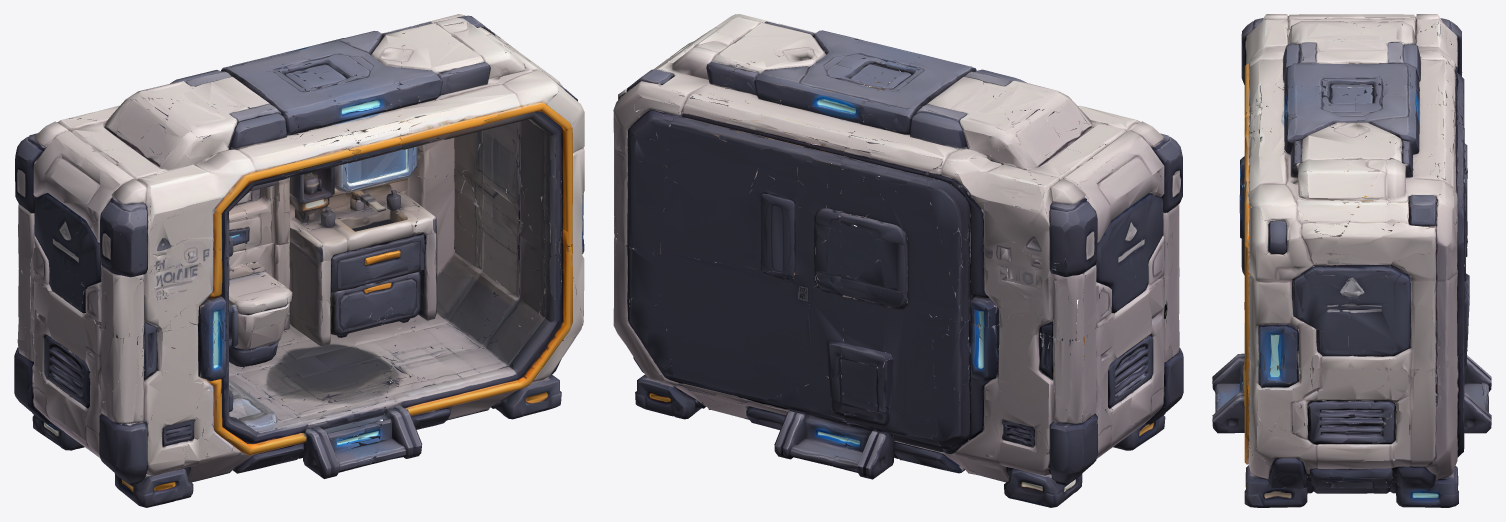
The model's file is Bathroom.glb.
3 renders of one model, left to right at view 1: azimuth 30°, elevation 25°; view 2: azimuth 150°, elevation 25°; view 3: azimuth 270°, elevation 25°, orthographic. The views are drawn at different scales.
Visible parts, largest first — view 1: tripo_part_1, tripo_part_0, tripo_part_5, tripo_part_4, tripo_part_19, tripo_part_14, tripo_part_13, tripo_part_6, tripo_part_26, tripo_part_17, tripo_part_21, tripo_part_31 (+18 smaller); view 2: tripo_part_12, tripo_part_1, tripo_part_14, tripo_part_28, tripo_part_0, tripo_part_26, tripo_part_16, tripo_part_8, tripo_part_32, tripo_part_54, tripo_part_40, tripo_part_37 (+8 smaller); view 3: tripo_part_1, tripo_part_18, tripo_part_24, tripo_part_14, tripo_part_0, tripo_part_12, tripo_part_36, tripo_part_20, tripo_part_42, tripo_part_22, tripo_part_6, tripo_part_39 (+10 smaller).
Part boxes in pixels (box(x1,y1,x2,y2)): tripo_part_1: box(17, 14, 584, 475); tripo_part_0: box(183, 111, 561, 478); tripo_part_5: box(229, 248, 544, 422); tripo_part_4: box(227, 138, 454, 346); tripo_part_19: box(454, 119, 545, 317); tripo_part_14: box(170, 21, 490, 149); tripo_part_13: box(229, 233, 425, 366); tripo_part_6: box(208, 102, 572, 415); tripo_part_26: box(34, 193, 101, 313); tripo_part_17: box(99, 414, 193, 507); tripo_part_21: box(229, 261, 292, 349); tripo_part_31: box(100, 197, 148, 277); tripo_part_12: box(626, 109, 970, 447); tripo_part_1: box(613, 14, 1179, 475); tripo_part_14: box(706, 21, 1026, 149); tripo_part_28: box(815, 207, 907, 308); tripo_part_0: box(736, 49, 1103, 479); tripo_part_26: box(1096, 193, 1163, 313); tripo_part_16: box(1004, 414, 1097, 507); tripo_part_8: box(681, 112, 989, 453); tripo_part_32: box(1049, 197, 1097, 276); tripo_part_54: box(760, 193, 794, 278); tripo_part_40: box(970, 295, 999, 381); tripo_part_37: box(1108, 335, 1153, 408); tripo_part_1: box(1246, 14, 1457, 493); tripo_part_18: box(1292, 222, 1436, 468); tripo_part_24: box(1293, 265, 1412, 356); tripo_part_14: box(1283, 43, 1421, 177); tripo_part_0: box(1212, 86, 1491, 455); tripo_part_12: box(1256, 72, 1469, 493); tripo_part_36: box(1308, 400, 1396, 444); tripo_part_20: box(1244, 458, 1307, 507); tripo_part_42: box(1258, 324, 1299, 387); tripo_part_22: box(1396, 466, 1458, 507); tripo_part_6: box(1244, 63, 1252, 464); tripo_part_39: box(1310, 468, 1392, 488).
Bounding box in the file's own units: 0.9813 × 0.6725 × 0.5184.
Materials: 75 (75 with a texture image).
